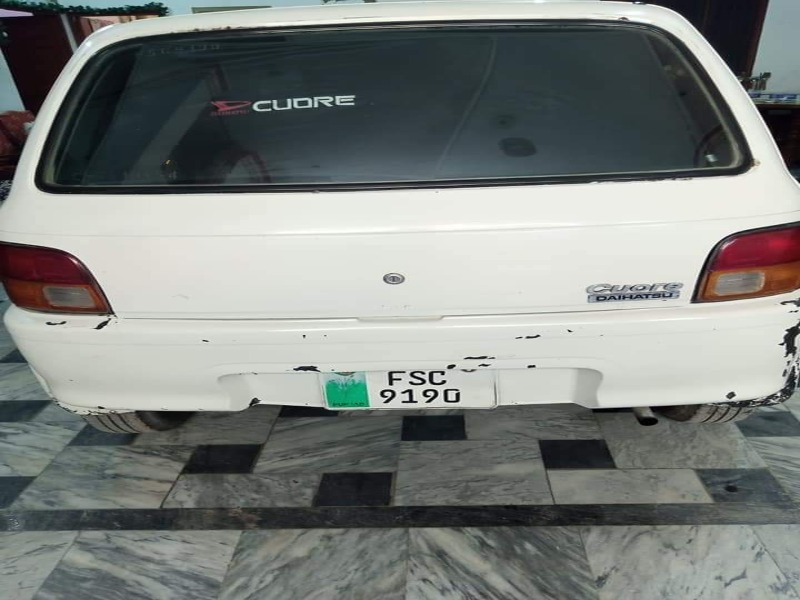License Plate: (317, 366, 501, 416)
